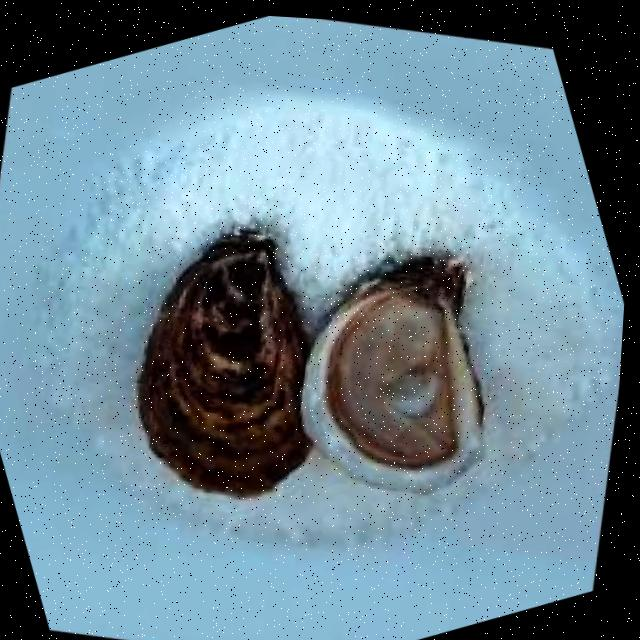Oyster-Indeterminate: (137, 229, 310, 496)
Oyster-Open: (301, 252, 483, 492)
